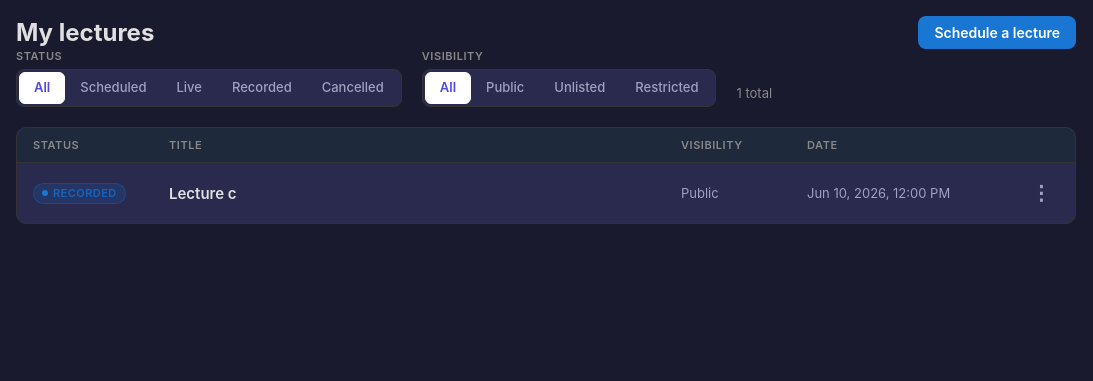
<MyLecturesPage> KS-3998: ⋮-меню по статусам › recorded: Open / Settings / Copy link / Delete (без Start и End)
expect the list with test id "my-lectures-list" is shown: met, box [16, 127, 1076, 224]
Click the button "⋮".
click(1041, 193)  # box [1023, 175, 1059, 211]
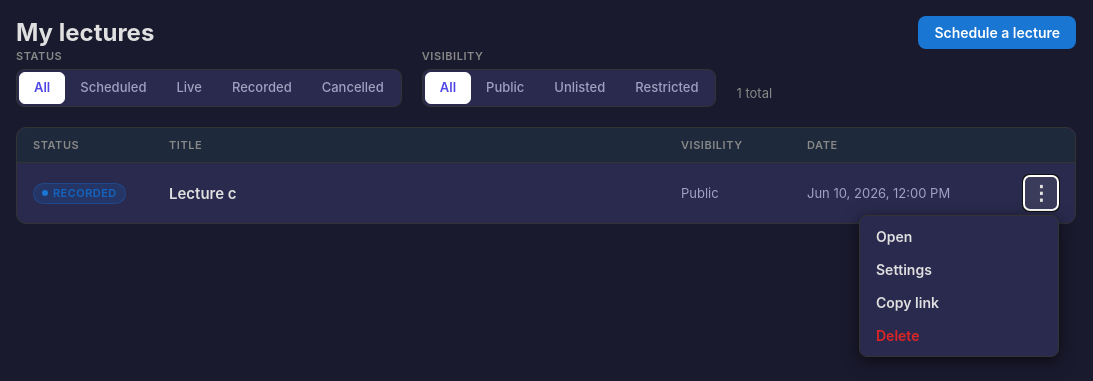
expect the menu item with test id "my-lectures-action-open-c" is shown: met, box [864, 220, 1054, 253]
expect the menu item with test id "my-lectures-action-settings-c" is shown: met, box [864, 253, 1054, 286]
expect the menu item with test id "my-lectures-action-share-c" is shown: met, box [864, 286, 1054, 319]
